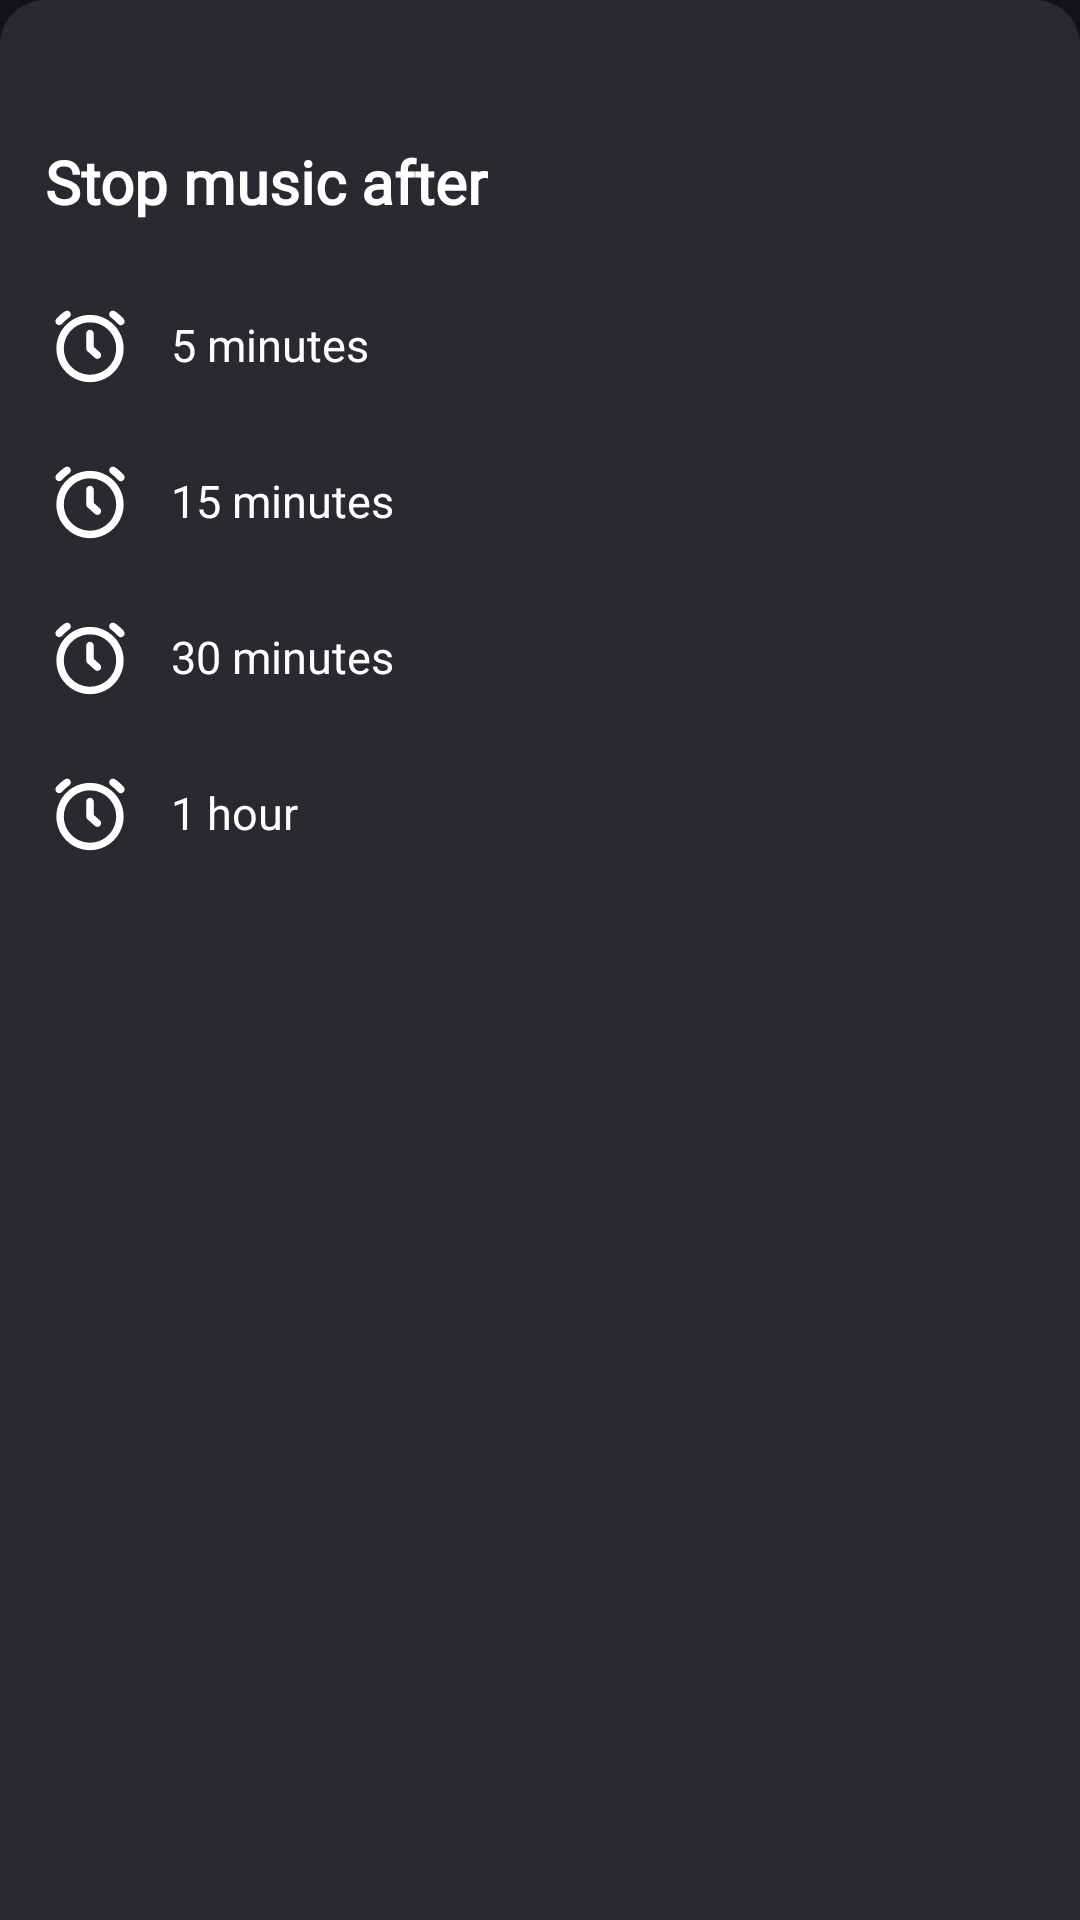

Where to tap for icons on this 1080px x 1920px app screen, as [x,y]:
timer: [90,346], [90,502], [90,658], [90,814]
